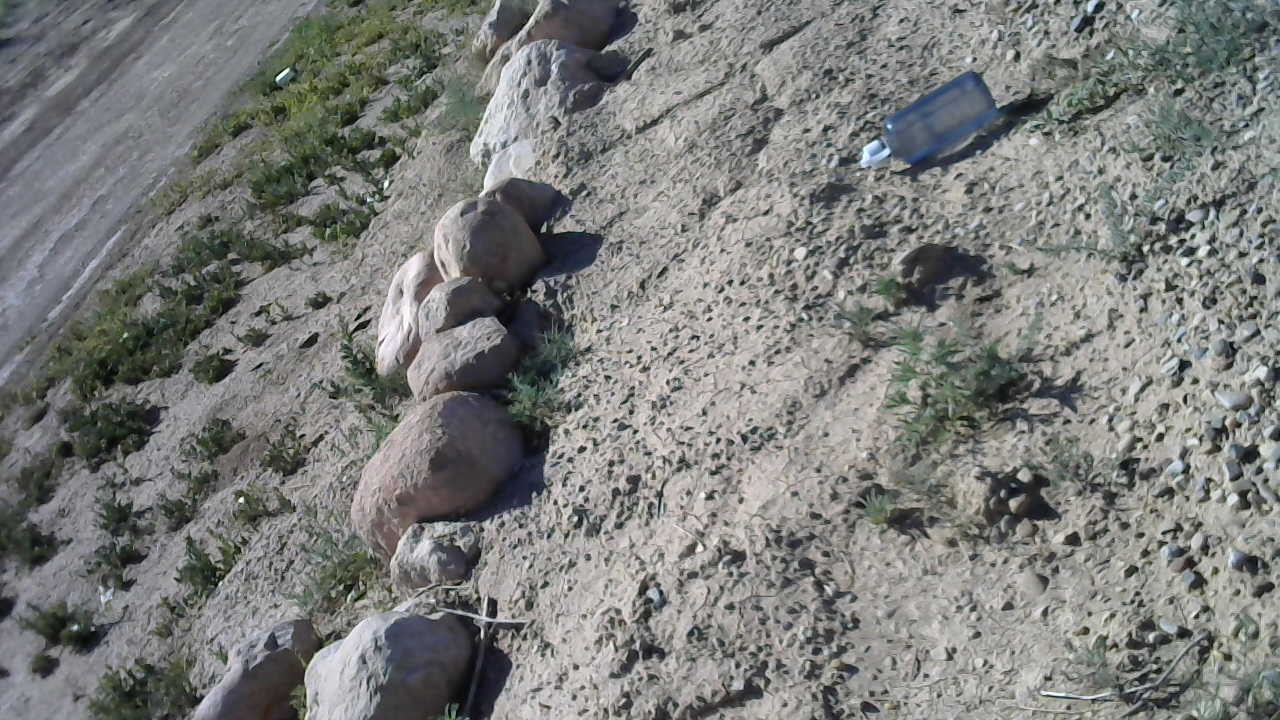bottle: (854, 67, 999, 172)
